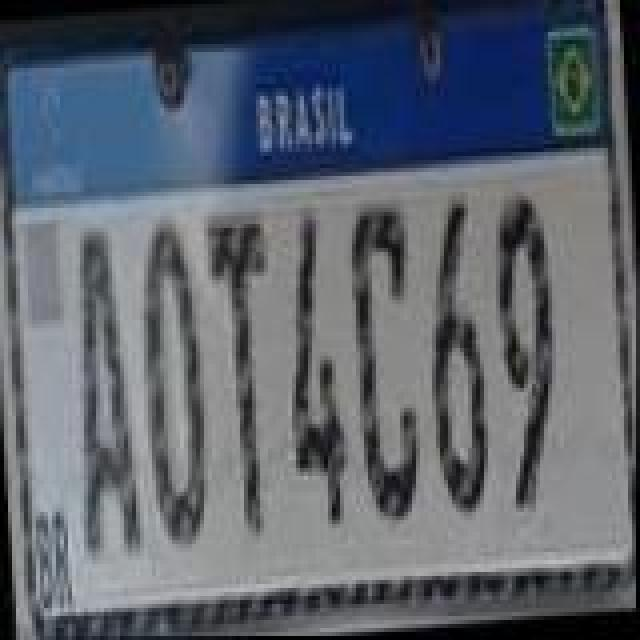4: (272, 210, 356, 534)
6: (416, 198, 492, 518)
9: (484, 188, 568, 520)
A: (60, 220, 144, 560)
C: (348, 202, 432, 526)
O: (132, 218, 216, 546)
T: (202, 224, 290, 540)
